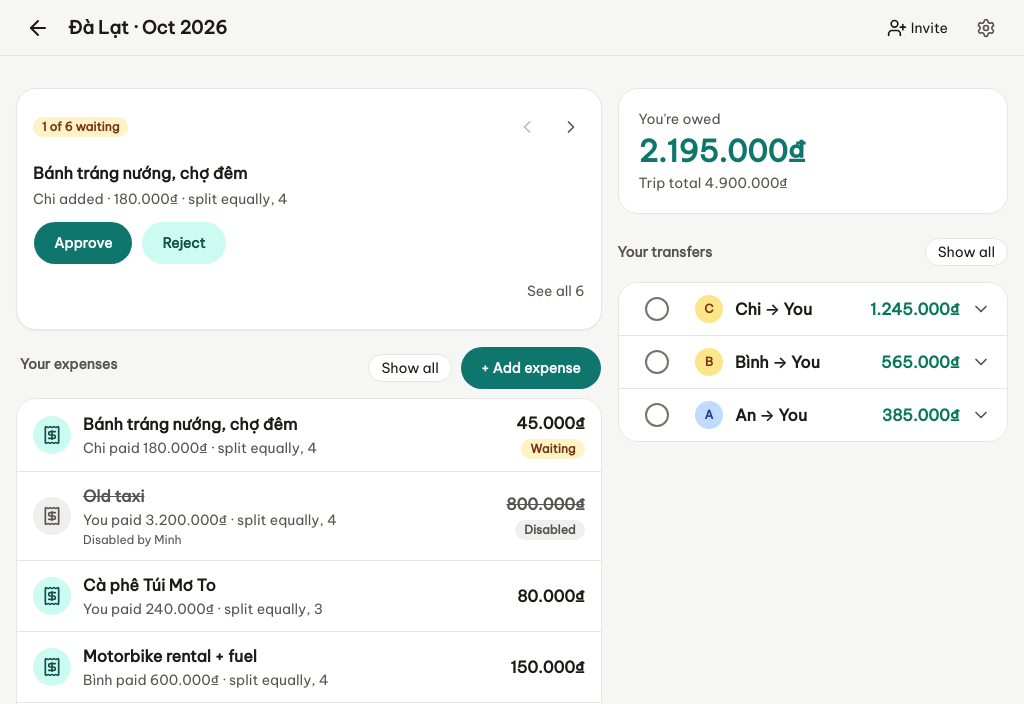
Test: approvals queue › shows one approval at a time with its position
The width and height of the screenshot is (1024, 704).
expect the text "1 of 6 waiting" is shown: met, box [33,117,128,137]
expect the button "Bánh tráng nướng, chợ đêm" is shown: met, box [33,161,247,185]
Click the button named "Next". click: (571, 127)
box: [549,105,593,149]
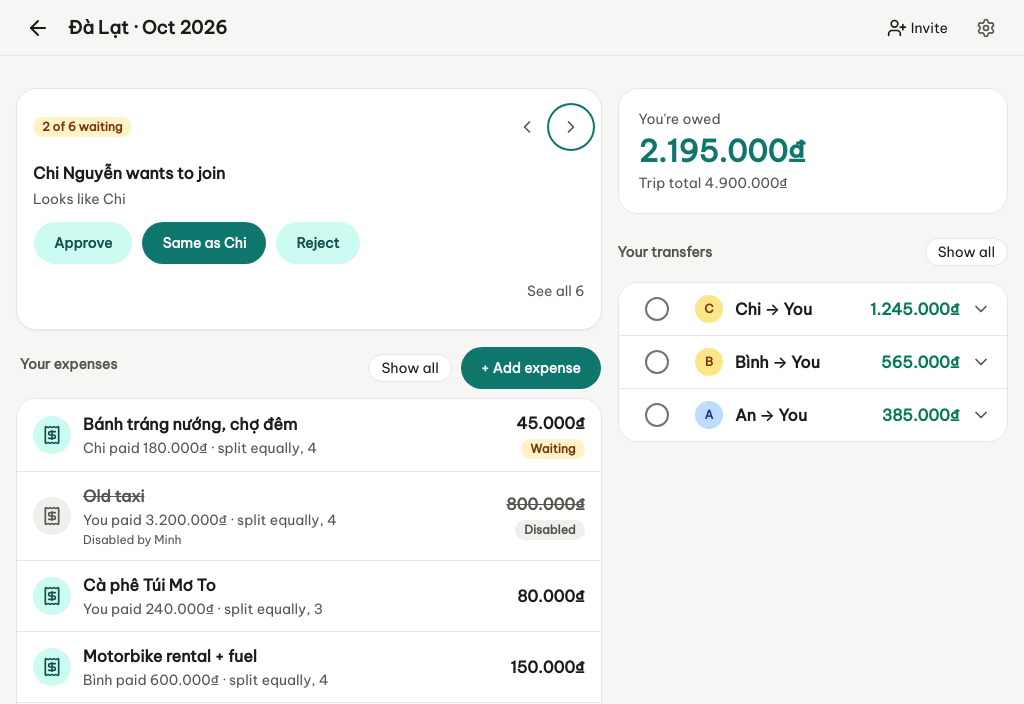
expect the text "2 of 6 waiting" is shown: met, box [33,117,132,137]
expect the text "Chi Nguyễn wants to join" is shown: met, box [33,163,225,183]
Click the button named "Previous". click: (527, 127)
box: [505,105,549,149]
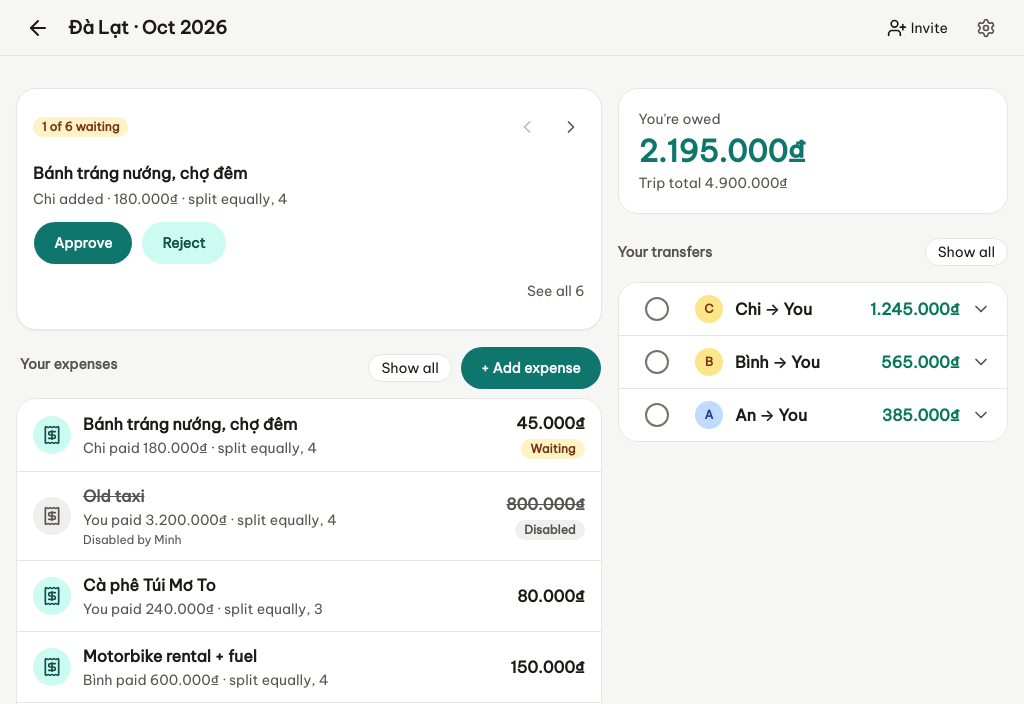
expect the text "1 of 6 waiting" is shown: met, box [33,117,128,137]
